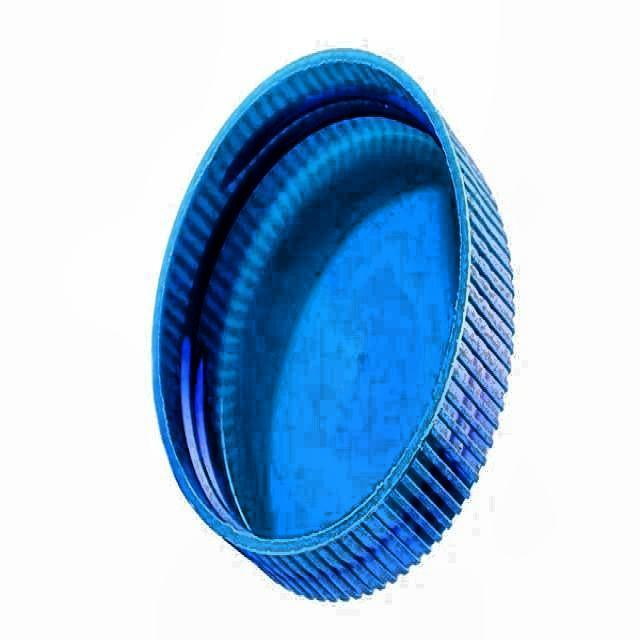plastic: (150, 48, 516, 604)
